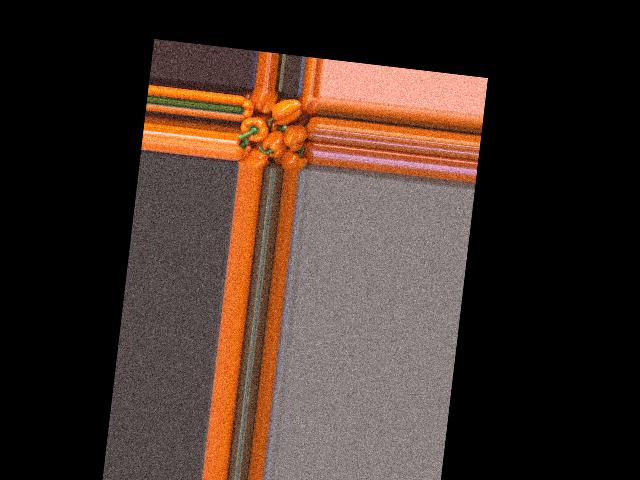bell_pepper: (296, 134, 316, 166)
